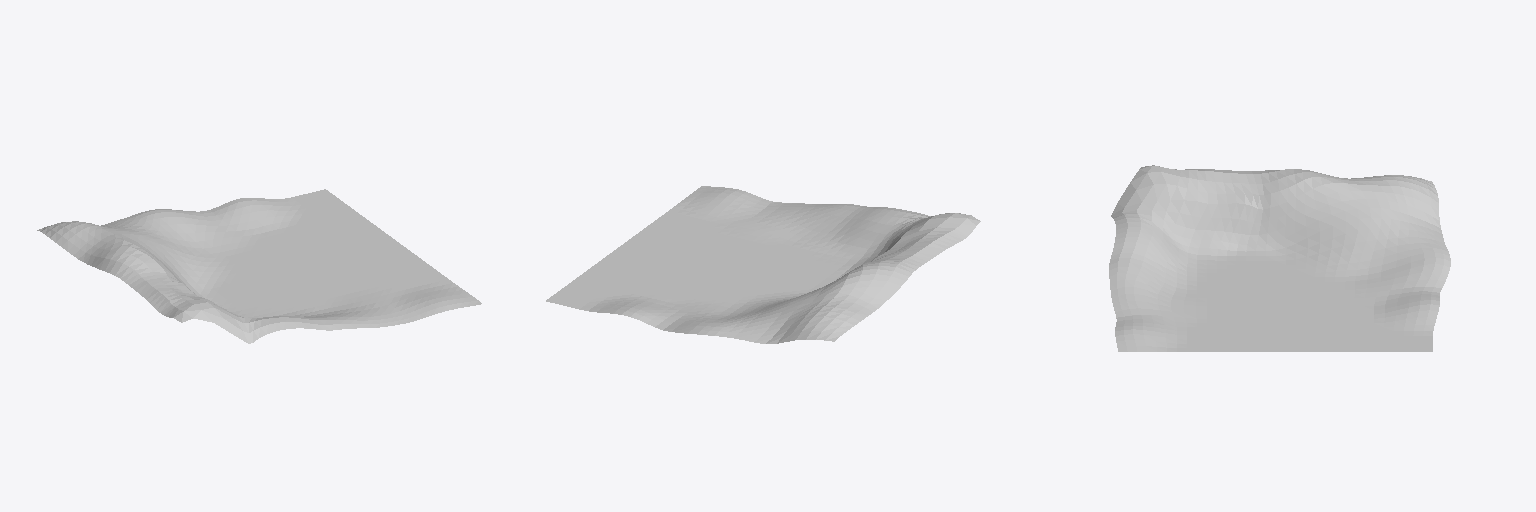
The model's file is terrain.obj.
The picture shows the model from 3 angles: view 1: azimuth 30°, elevation 25°; view 2: azimuth 150°, elevation 25°; view 3: azimuth 270°, elevation 25°; orthographic projection.
Parts seen in each view (by area): view 1: Plane; view 2: Plane; view 3: Plane.
Boxes of the visible parts, box(x1,y1,x2,y2) form: Plane: box(37, 189, 481, 343); Plane: box(546, 186, 980, 343); Plane: box(1109, 165, 1450, 351).
Bounding box in the file's own units: 34.78 × 5.64 × 35.21.